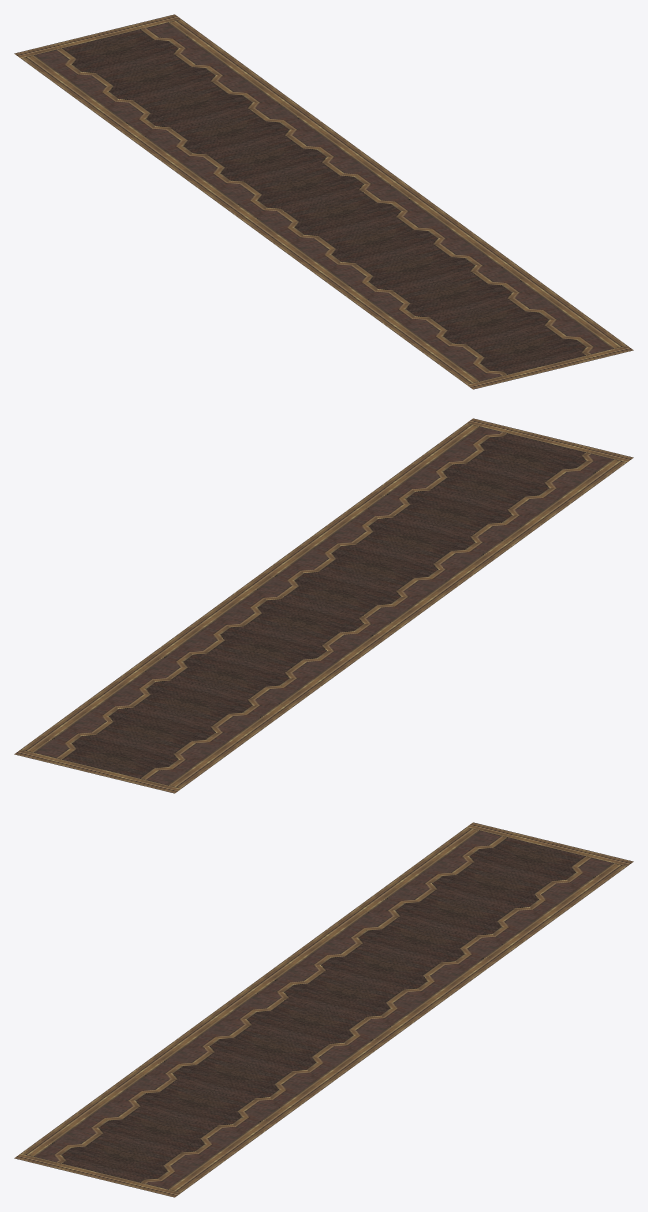
3 views of the same model, one above another, from view 1: azimuth 30°, elevation 25°; view 2: azimuth 150°, elevation 25°; view 3: azimuth 330°, elevation 25° (orthographic).
Visible parts, largest first — view 1: object85; view 2: object85; view 3: object85.
Part boxes in pixels (bbox=[...]): object85: bbox=[14, 14, 633, 389]; object85: bbox=[14, 418, 633, 793]; object85: bbox=[14, 822, 633, 1197].
Size of the model in its own units: 425 by 5.95e-13 by 2102.
Materials: 1 (1 with a texture image).
